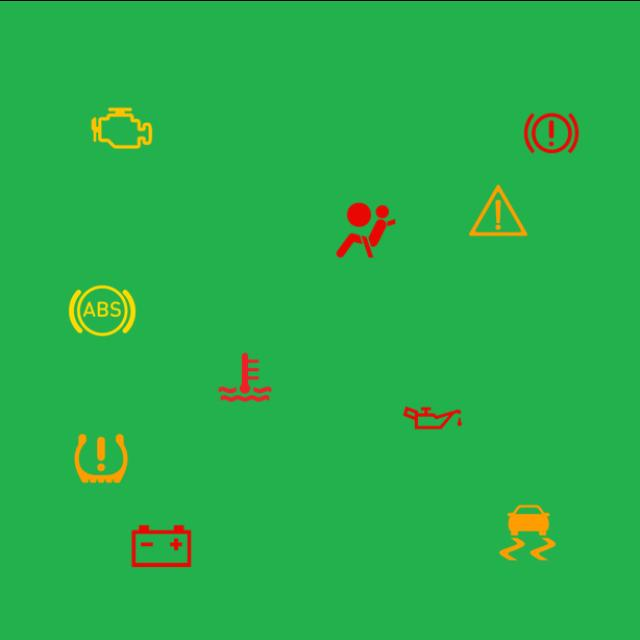Anti Lock Braking System: (65, 273, 138, 346)
Braking System Issue: (515, 96, 588, 169)
Charging System Issue: (125, 508, 198, 582)
Check Engine: (85, 90, 158, 163)
Electronic Stability Problem -ESP-: (491, 495, 564, 568)
Engine Overheating Warning Light: (208, 340, 282, 413)
Low Engine Oil Warning Light: (396, 381, 469, 454)
Low Tire Pressure Warning Light: (64, 421, 138, 494)
Master warning light: (462, 173, 534, 246)
SRS-Airbag: (330, 193, 402, 266)
